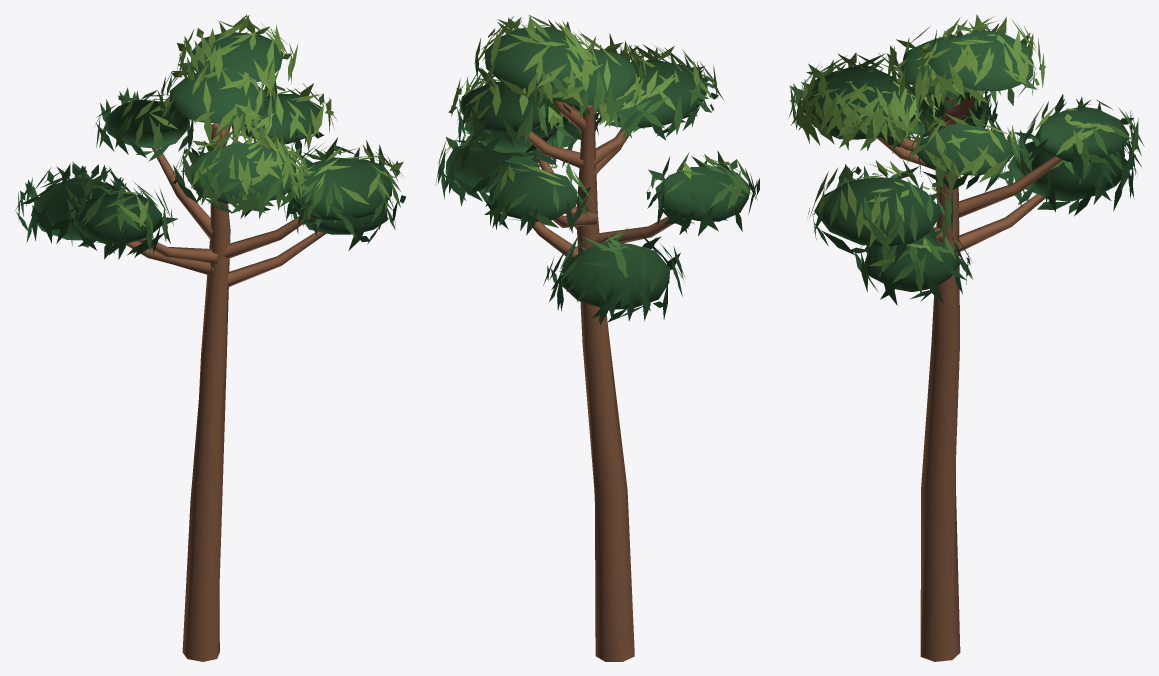
The model's file is Pine.glb.
3 renders of one model, left to right at view 1: azimuth 30°, elevation 25°; view 2: azimuth 150°, elevation 25°; view 3: azimuth 270°, elevation 25°, orthographic. The views are drawn at different scales.
Visible parts, largest first — view 1: Pine.needleDark, Pine.bark, Pine.needleLight, Pine.needleMid; view 2: Pine.needleDark, Pine.bark, Pine.needleMid, Pine.needleLight; view 3: Pine.needleDark, Pine.bark, Pine.needleLight, Pine.needleMid.
Boxes of the visible parts, left/top/right/bottom form: Pine.needleDark: left=15, top=32, right=405, bottom=259; Pine.bark: left=126, top=123, right=326, bottom=661; Pine.needleLight: left=114, top=14, right=404, bottom=226; Pine.needleMid: left=40, top=32, right=400, bottom=251; Pine.needleDark: left=435, top=27, right=759, bottom=324; Pine.bark: left=522, top=100, right=672, bottom=661; Pine.needleMid: left=438, top=47, right=751, bottom=280; Pine.needleLight: left=450, top=15, right=730, bottom=192; Pine.needleDark: left=803, top=30, right=1141, bottom=305; Pine.bark: left=877, top=96, right=1062, bottom=661; Pine.needleLight: left=791, top=14, right=1115, bottom=266; Pine.needleMid: left=788, top=26, right=1144, bottom=295.
Size of the model in its own units: 18.14 by 34.44 by 16.99.
